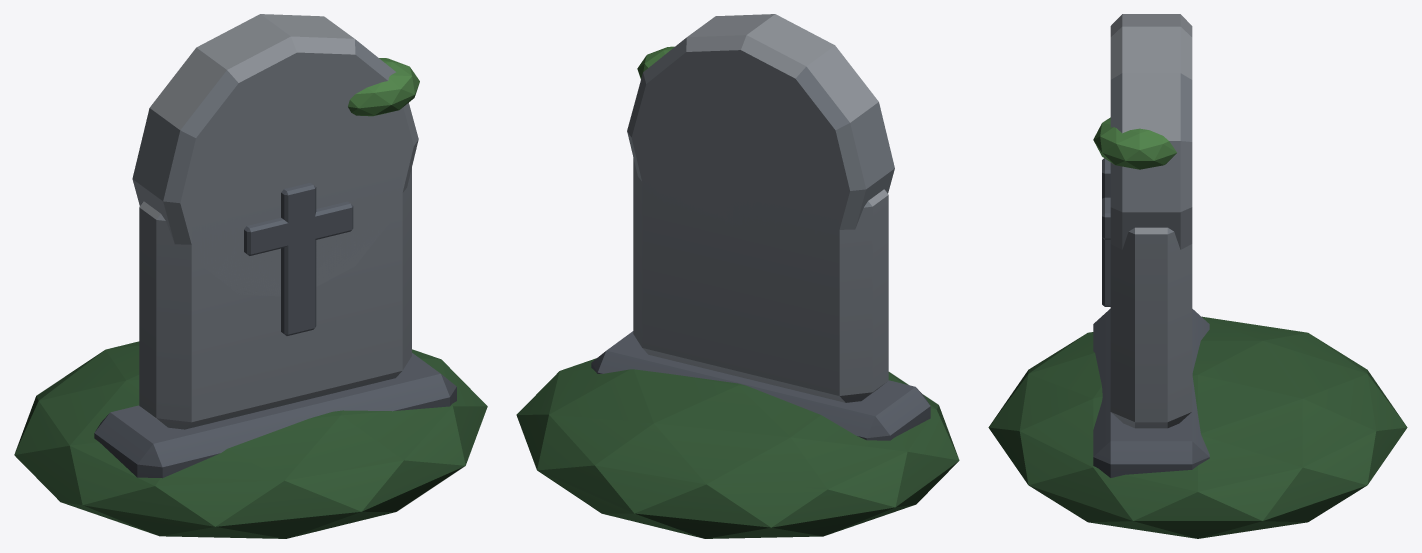
File: headstone.glb
3 renders of one model, left to right at view 1: azimuth 30°, elevation 25°; view 2: azimuth 150°, elevation 25°; view 3: azimuth 270°, elevation 25°, orthographic. The views are drawn at different scales.
Visible parts, largest first — view 1: mesh_headstone; view 2: mesh_headstone; view 3: mesh_headstone.
Part boxes in pixels (left/top/right/bottom): mesh_headstone: left=14, top=14, right=487, bottom=538; mesh_headstone: left=516, top=14, right=959, bottom=538; mesh_headstone: left=988, top=14, right=1407, bottom=538.
Size of the model in its own units: 0.7608 by 0.86 by 0.72.
